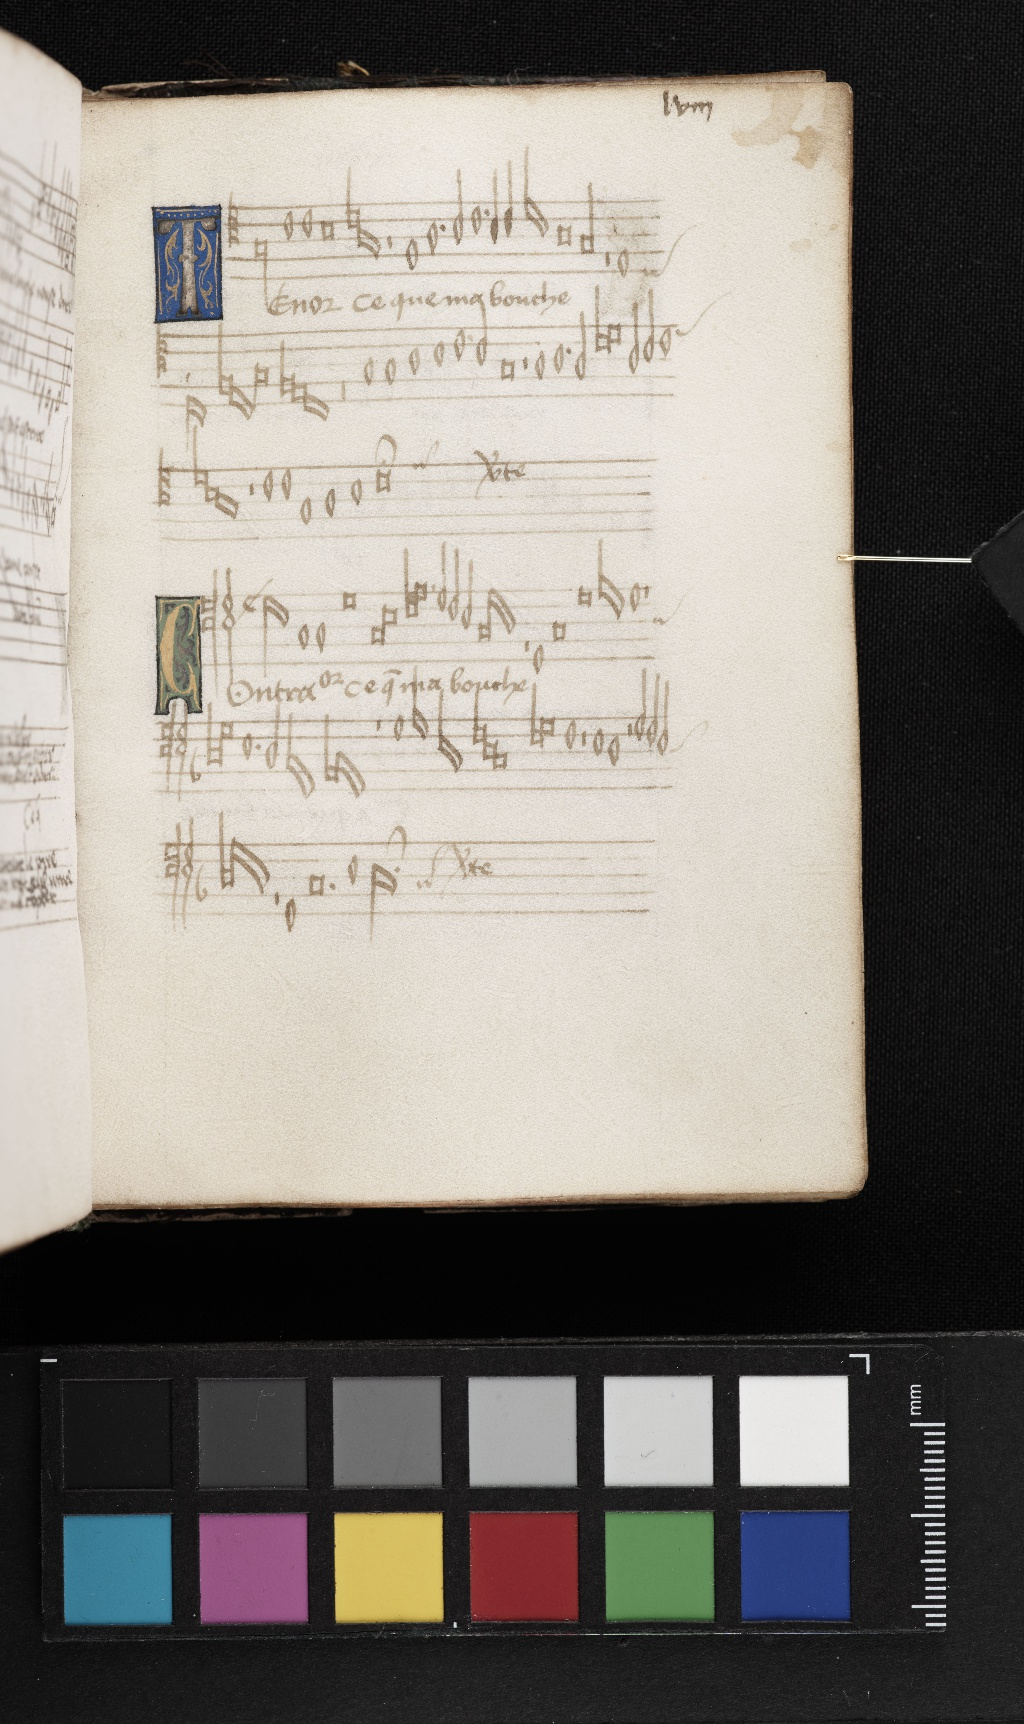breve rest: (335, 324, 347, 405)
breve_8: (492, 351, 518, 391)
c clef_5: (154, 327, 172, 376)
custos_4: (670, 322, 705, 344)
l1breve_11: (183, 389, 196, 443)
l1semibreve_5: (588, 289, 613, 362)
l1semibreve_9: (213, 327, 238, 422), (274, 334, 297, 408)
l2breve_12: (195, 384, 212, 440)
l2breve_8: (251, 359, 271, 418)
l2semibreve_10: (288, 379, 310, 407)
l2semibreve_4: (603, 322, 624, 351)
minim_6: (474, 299, 490, 381), (642, 299, 657, 366)
minim_7: (627, 305, 644, 378)
minim_8: (574, 308, 588, 395)
o2breve_11: (301, 385, 319, 425), (243, 385, 255, 424)
o2breve_12: (318, 385, 336, 422)
o2semibreve_10: (229, 383, 241, 422)
point: (550, 335, 567, 378), (460, 327, 475, 347), (562, 341, 575, 361)
semibreve rest: (519, 327, 530, 398), (184, 329, 191, 396)
semibreve_5: (450, 320, 471, 369), (660, 317, 674, 359)
semibreve_6: (430, 334, 450, 375)
semibreve_7: (401, 339, 425, 392), (532, 344, 549, 386), (550, 336, 566, 379)
semibreve_8: (358, 350, 379, 394), (378, 347, 399, 391)
